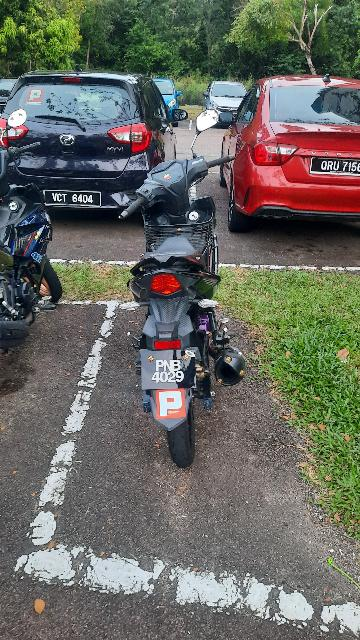License_Plate: (142, 340, 198, 394), (304, 147, 360, 182), (42, 185, 103, 210)
car: (16, 78, 169, 222), (225, 74, 360, 229)
motorcycle: (110, 107, 257, 471)
